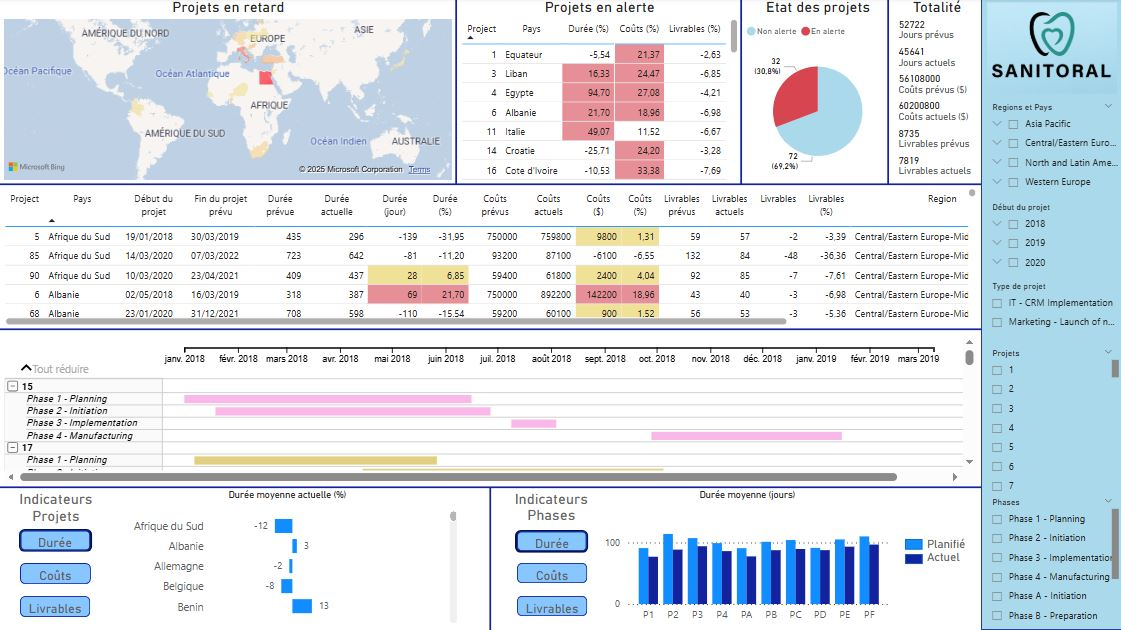

The dashboard page shown, as its layout file describes it:
{"tool":"powerbi","page":{"name":"Projets","canvas":[1280,720],"ordinal":1},"visuals":[{"type":"shape","box":[21.2,605.4,83.8,26.2],"z":2000},{"type":"shape","box":[586.2,605.8,84.2,26.2],"z":5000},{"type":"shape","box":[1117.7,0,162.3,719.8],"z":6000},{"type":"filledMap","title":"Projets en retard","fields":{"Category":["Projects_Locations.Country"]},"box":[0,0,520.2,212],"z":7000},{"type":"pieChart","title":"Etat des projets","fields":{"Category":["Project_recap.Project_Alerte"],"Y":["Count(Projects_plans.Project ID)"]},"box":[845.2,0,173.2,212.2],"z":8000},{"type":"tableEx","title":"Projets","fields":{"Values":["Project_recap.Project ID","Projects_Locations.Country","Project_recap.Date_start_jj/MM/AAAA","Project_recap.Project_Fin_Planned","Project_recap.Project_Duration_Planned","Project_recap.Project_Duration_Actual","Project_recap.Project_Diff_Duration_jours","Sum(Project_recap.Project_Diff_Duration_%)","Project_recap.Project_Cost_Planned","Project_recap.Project_Cost_Actual","Sum(Project_recap.Project_Diff_Cost_€)","Sum(Project_recap.Project_Diff_Cost_%)"]},"box":[0,212.2,1117.2,165.6],"z":9000},{"type":"image","box":[1117.7,0,162.1,113.8],"z":10000},{"type":"slicer","fields":{"Values":["Country_Profiles.Region","Projects_Locations.Country"]},"box":[1117.7,113.9,162.3,113.9],"z":11000},{"type":"slicer","fields":{"Values":["Project_recap.Project ID"]},"box":[1118,394.2,162,173.5],"z":12000},{"type":"slicer","fields":{"Values":["Project_recap.Date_start.Variation.Hiérarchie de dates.Année","Project_recap.Date_start.Variation.Hiérarchie de dates.Trimestre","Project_recap.Date_start.Variation.Hiérarchie de dates.Mois","Project_recap.Date_start.Variation.Hiérarchie de dates.Jour"]},"box":[1117.7,227.7,162.3,90.3],"z":13000},{"type":"slicer","fields":{"Values":["Project type.Project Type"]},"box":[1117.7,318,162.3,73.3],"z":14000},{"type":"tableEx","title":"Projets en alerte","fields":{"Values":["Project_recap.Project ID","Projects_Locations.Country","Sum(Project_recap.Project_Diff_Duration_%)","Sum(Project_recap.Project_Diff_Cost_%)","Sum(Project_recap.Project_Diff_Delivrable_%)"]},"box":[520.2,0,325.2,212],"z":15000},{"type":"Gantt1448688115699","title":"Gantt","fields":{"Duration":["Sum(Projects_plans.Planned_Duration)"],"Task":["Projects_plans.Phase"],"Parent":["Projects_plans.Project ID"],"Legend":["Project_recap.Project ID"],"StartDate":["Projects_plans.Start Date"]},"box":[0,377.9,1117.1,180],"z":16000},{"type":"slicer","fields":{"Values":["Projects_plans.Phase"]},"box":[1117.7,564.1,162.1,155.9],"z":17000},{"type":"lineClusteredColumnComboChart","title":"Durée moyenne (jours)","fields":{"Category":["Projects_plans.Phase_abrégée","Projects_plans.Start Date"],"Y":["Avg(Projects_plans.Planned_Duration)","Avg(Actual_Duration.Actual_Duration)"]},"box":[683.5,559.2,335.3,161.4],"z":19000},{"type":"shape","box":[1031.1,616.4,20.4,12.4],"z":21000},{"type":"shape","box":[1031.1,633.1,20.4,11.6],"z":22000},{"type":"actionButton","box":[588.8,607.5,80,22.9],"z":23000},{"type":"actionButton","box":[588.8,681.7,80,22.9],"z":24000},{"type":"actionButton","box":[588.8,644.2,80,22.9],"z":25000},{"type":"shape","box":[1056.6,604,51.7,52.4],"z":26000},{"type":"shape","box":[583.8,557.9,89.6,41.2],"z":27000},{"type":"shape","box":[21.2,560,84.1,39],"z":28000},{"type":"actionButton","box":[23.2,606.5,80,23.9],"z":29000},{"type":"barChart","title":"Durée moyenne actuelle (%)","fields":{"Category":["Projects_Locations.Country"],"Y":["Avg(Projects_Locations.Durée_moyen_pays_%)"]},"box":[128.9,559.5,396.8,157.9],"z":30000},{"type":"actionButton","box":[23.2,644.1,80.7,23.9],"z":33000},{"type":"actionButton","box":[23.2,681.7,80,23.9],"z":34000},{"type":"multiRowCard","title":"Totalité","fields":{"Values":["Sum(Project_recap.Project_Duration_Planned)","Sum(Project_recap.Project_Duration_Actual)","Sum(Project_recap.Project_Cost_Planned)","Sum(Project_recap.Project_Cost_Actual)","Sum(Project_recap.Project_Delivrable_Planned)","Sum(Project_recap.Project_Delivrable_Actual)"]},"box":[1018.4,0,98.8,212.2],"z":35000},{"type":"shape","box":[0,371.8,1117.7,12.4],"z":36000},{"type":"shape","box":[0,206,1117.7,12.4],"z":37000},{"type":"shape","box":[0,551.8,1117.7,12.4],"z":38000},{"type":"shape","box":[514,0,11.8,212.2],"z":39000},{"type":"shape","box":[838.8,0,11.8,212.2],"z":40000},{"type":"shape","box":[1006.4,0,11.8,212.2],"z":41000},{"type":"shape","box":[552.4,557.9,12.4,162.1],"z":42000}]}

Visuals, with their boxes in screenshot pixels (x1, y1, x2, y2), scaled from the page's 1280x720 canvas onto the 1121x630 screenshot:
shape: box(19, 530, 92, 553)
shape: box(513, 530, 587, 553)
shape: box(979, 0, 1120, 629)
"Projets en retard" filledMap: box(0, 0, 456, 186)
"Etat des projets" pieChart: box(740, 0, 892, 186)
"Projets" tableEx: box(0, 186, 978, 331)
image: box(979, 0, 1120, 100)
slicer - Country_Profiles.Region x Projects_Locations.Country: box(979, 100, 1120, 199)
slicer - Project_recap.Project ID: box(979, 345, 1120, 497)
slicer - Project_recap.Date_start.Variation.Hiérarchie de dates.Année x Project_recap.Date_start.Variation.Hiérarchie de dates.Trimestre: box(979, 199, 1120, 278)
slicer - Project type.Project Type: box(979, 278, 1120, 342)
"Projets en alerte" tableEx: box(456, 0, 740, 186)
"Gantt" Gantt1448688115699: box(0, 331, 978, 488)
slicer - Projects_plans.Phase: box(979, 494, 1120, 629)
"Durée moyenne (jours)" lineClusteredColumnComboChart: box(599, 489, 892, 629)
shape: box(903, 539, 921, 550)
shape: box(903, 554, 921, 564)
actionButton: box(516, 532, 586, 552)
actionButton: box(516, 596, 586, 617)
actionButton: box(516, 564, 586, 584)
shape: box(925, 528, 971, 574)
shape: box(511, 488, 590, 524)
shape: box(19, 490, 92, 524)
actionButton: box(20, 531, 90, 552)
"Durée moyenne actuelle (%)" barChart: box(113, 490, 460, 628)
actionButton: box(20, 564, 91, 584)
actionButton: box(20, 596, 90, 617)
"Totalité" multiRowCard: box(892, 0, 978, 186)
shape: box(0, 325, 979, 336)
shape: box(0, 180, 979, 191)
shape: box(0, 483, 979, 494)
shape: box(450, 0, 460, 186)
shape: box(735, 0, 745, 186)
shape: box(881, 0, 892, 186)
shape: box(484, 488, 495, 629)
